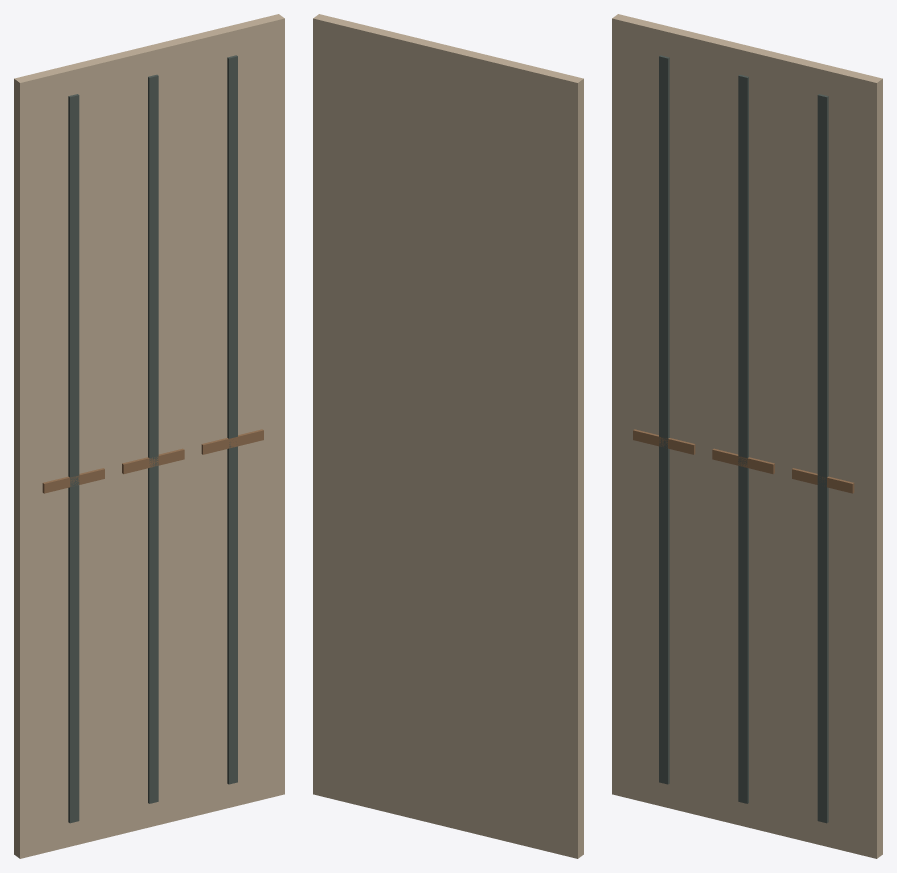
3 renders of one model, left to right at view 1: azimuth 30°, elevation 25°; view 2: azimuth 150°, elevation 25°; view 3: azimuth 330°, elevation 25°, orthographic.
Visible parts, largest first — view 1: wall-base, panel-post--0.3, panel-post-0, panel-post-0.3, panel-cap-0.3, panel-cap-0, panel-cap--0.3; view 2: wall-base; view 3: wall-base, panel-post-0.3, panel-post-0, panel-post--0.3, panel-cap-0, panel-cap--0.3, panel-cap-0.3.
Boxes of the visible parts, bbox=[...] form: wall-base: bbox=[14, 14, 284, 858]; panel-post--0.3: bbox=[68, 94, 79, 823]; panel-post-0: bbox=[148, 74, 158, 803]; panel-post-0.3: bbox=[227, 55, 237, 784]; panel-cap-0.3: bbox=[201, 429, 263, 454]; panel-cap-0: bbox=[122, 448, 184, 474]; panel-cap--0.3: bbox=[42, 468, 104, 493]; wall-base: bbox=[313, 14, 583, 858]; wall-base: bbox=[612, 14, 882, 858]; panel-post-0.3: bbox=[817, 94, 828, 823]; panel-post-0: bbox=[738, 74, 748, 803]; panel-post--0.3: bbox=[659, 55, 669, 784]; panel-cap-0: bbox=[712, 448, 774, 474]; panel-cap--0.3: bbox=[633, 429, 695, 454]; panel-cap-0.3: bbox=[792, 468, 854, 493].
Size of the model in its own units: 1 by 2.8 by 0.05.
